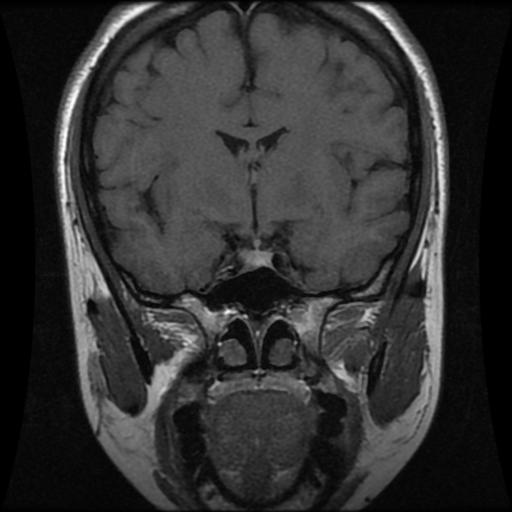Pituirity_tumour: (246, 248, 270, 265)
